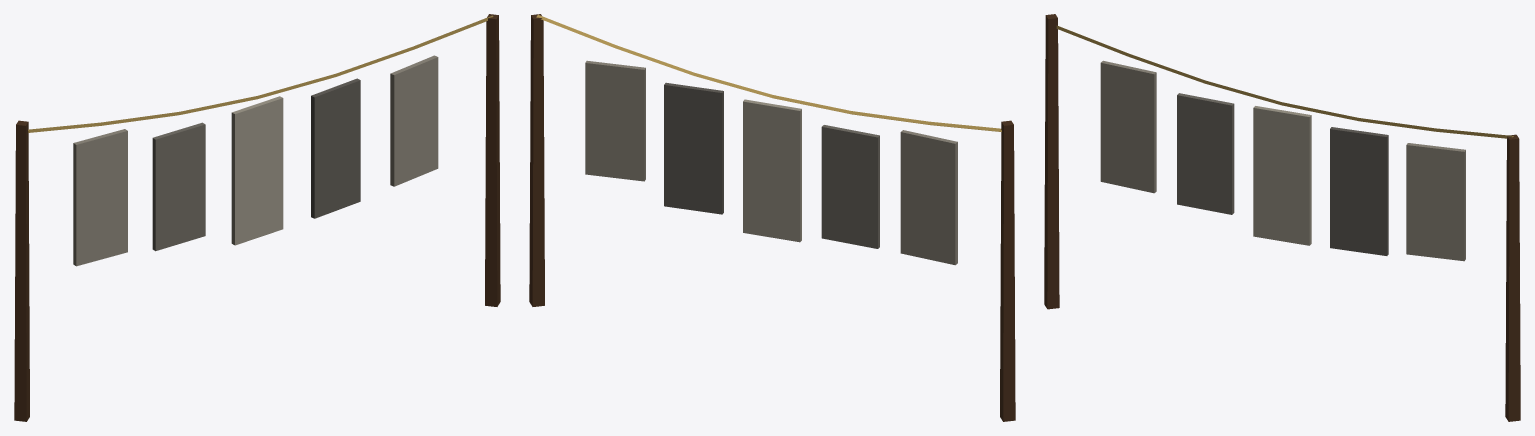
The model's file is a2m_dusty_clothes.glb.
3 views of the same model, side by side, from view 1: azimuth 30°, elevation 25°; view 2: azimuth 150°, elevation 25°; view 3: azimuth 330°, elevation 25° (orthographic). The views are drawn at different scales.
Visible parts, largest first — view 1: a2m_dusty_clothes; view 2: a2m_dusty_clothes; view 3: a2m_dusty_clothes.
Boxes of the visible parts, x1,y1,x2,y2 form: a2m_dusty_clothes: [14, 14, 500, 421]; a2m_dusty_clothes: [529, 14, 1015, 421]; a2m_dusty_clothes: [1044, 14, 1520, 421].
Bounding box in the file's own units: 3.1 × 1.8 × 0.1132.
